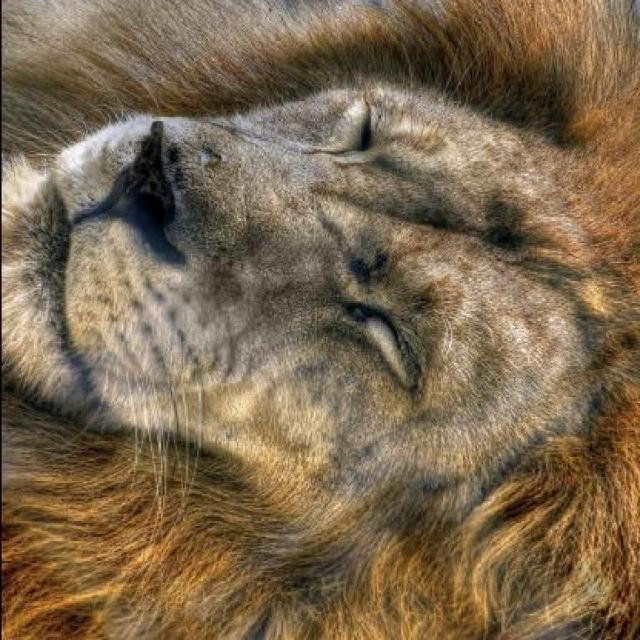Lion: (2, 44, 626, 614)
